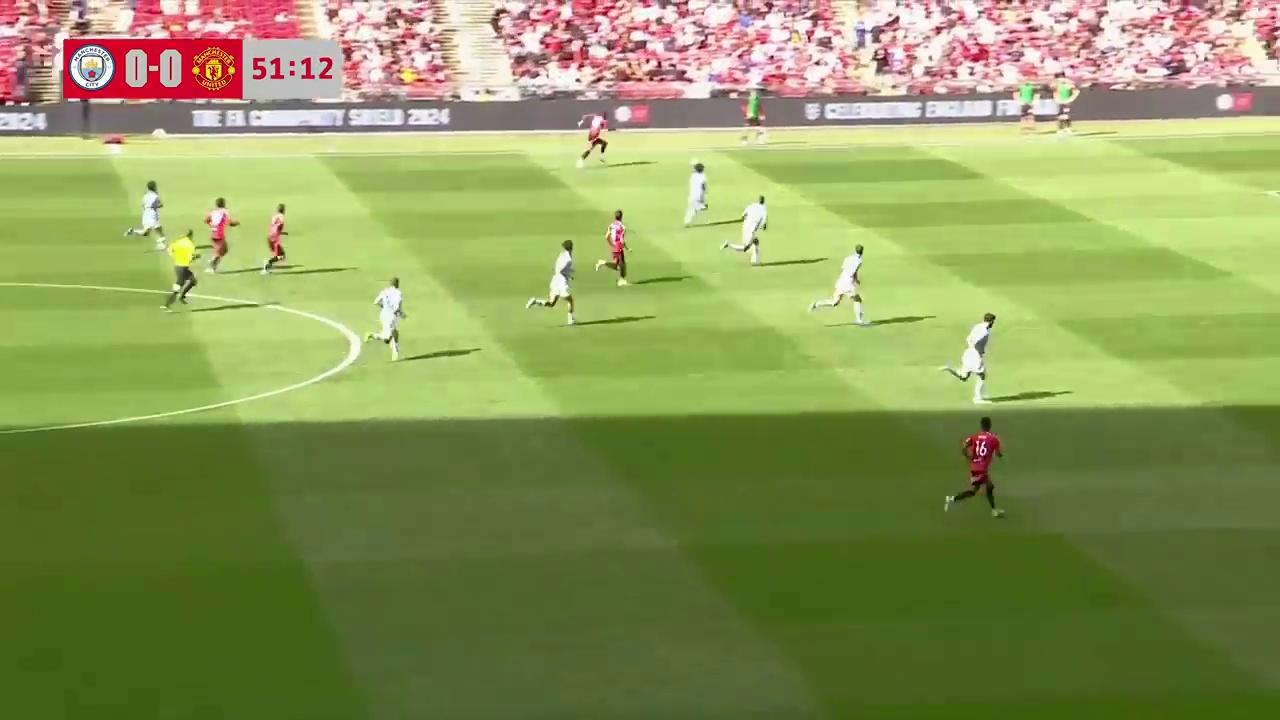player: (943, 417, 1004, 518), (946, 311, 996, 401), (536, 240, 576, 324), (373, 276, 407, 360), (828, 245, 865, 322), (203, 197, 240, 272), (728, 195, 767, 265), (124, 181, 166, 244), (596, 210, 630, 286), (261, 204, 289, 275), (683, 162, 709, 226), (577, 114, 609, 166)
referee: (161, 230, 200, 310)
